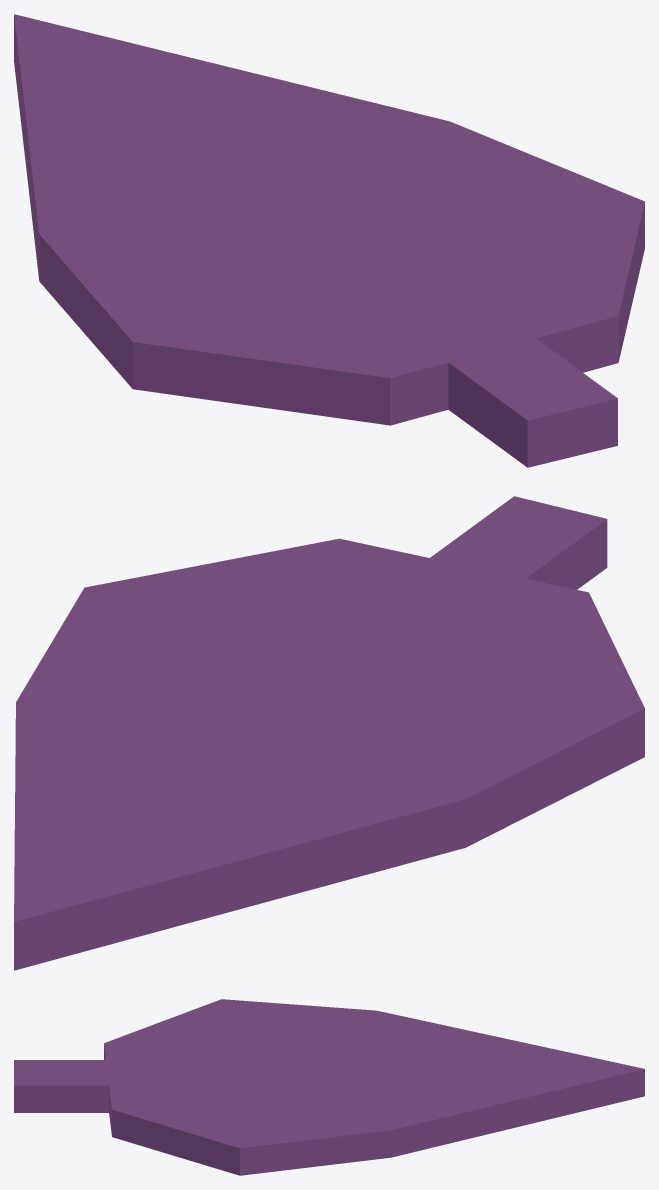
The model's file is Leaf_Platform.fbx.
3 views of the same model, one above another, from view 1: azimuth 30°, elevation 25°; view 2: azimuth 150°, elevation 25°; view 3: azimuth 270°, elevation 25° (orthographic). The views are drawn at different scales.
Parts seen in each view (by area): view 1: pCylinder1, pCube1; view 2: pCylinder1, pCube1; view 3: pCylinder1, pCube1.
Boxes of the visible parts, x1,y1,x2,y2 form: pCylinder1: (14,14,644,425); pCube1: (397,303,617,467); pCylinder1: (14,538,644,970); pCube1: (380,496,607,617); pCylinder1: (104,999,644,1175); pCube1: (14,1060,164,1112).
Size of the model in its own units: 11.68 by 1 by 20.88.
